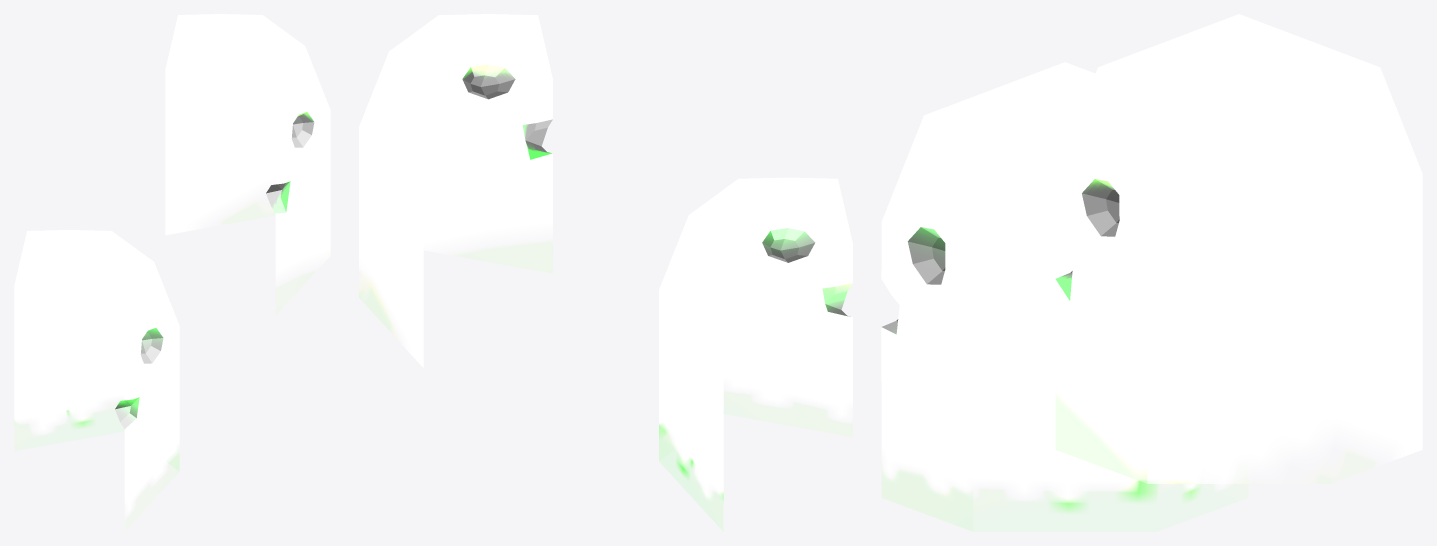
File: ghost-happy.glb
3 views of the same model, side by side, from view 1: azimuth 30°, elevation 25°; view 2: azimuth 150°, elevation 25°; view 3: azimuth 270°, elevation 25° (orthographic). The views are drawn at different scales.
Parts seen in each view (by area): view 1: Cylinder.001, Cylinder; view 2: Cylinder.001, Cylinder; view 3: Cylinder.001, Cylinder.
Part boxes in pixels (x1=…): Cylinder.001: x1=165, y1=14, x2=330, y2=287; Cylinder: x1=14, y1=230, x2=179, y2=519; Cylinder.001: x1=359, y1=14, x2=552, y2=367; Cylinder: x1=659, y1=177, x2=852, y2=505; Cylinder.001: x1=1055, y1=14, x2=1422, y2=483; Cylinder: x1=881, y1=62, x2=1232, y2=513.
Size of the model in its own units: 3 by 3.9 by 2.95.
Materials: 1 (1 with a texture image).
